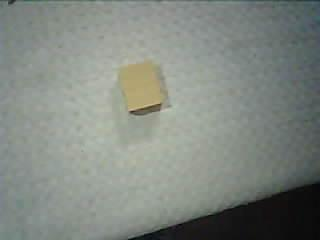lego: (113, 60, 165, 117)
